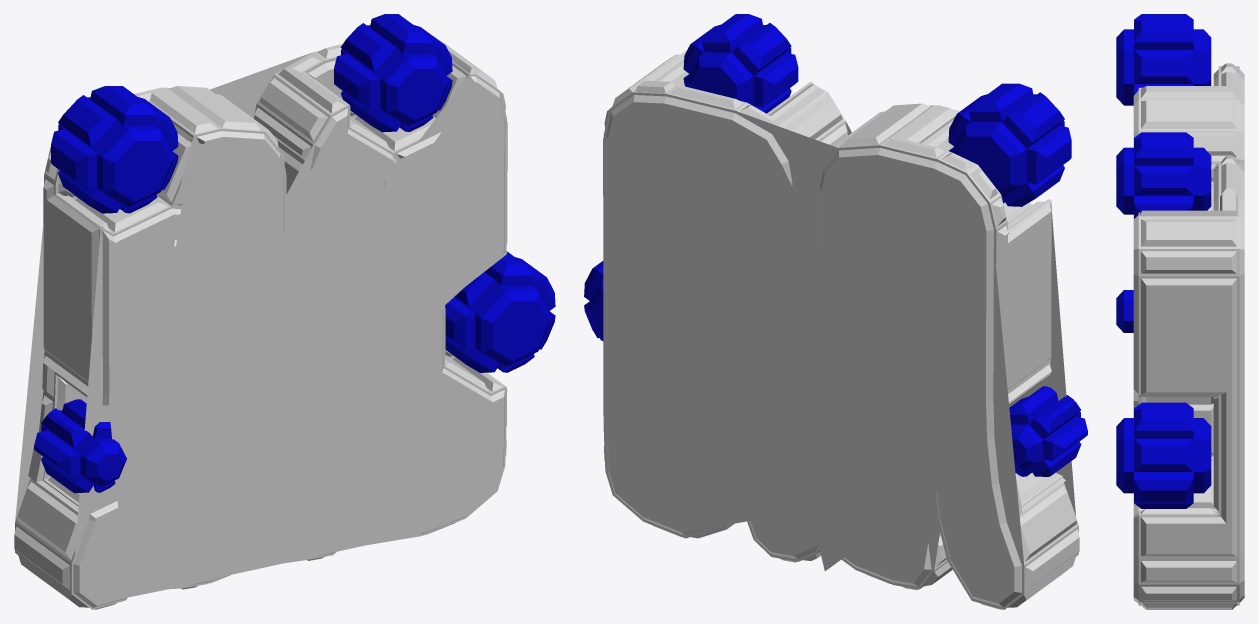
The model's file is Ch_China_朋_01.fbx.
3 views of the same model, side by side, from view 1: azimuth 30°, elevation 25°; view 2: azimuth 150°, elevation 25°; view 3: azimuth 270°, elevation 25° (orthographic). The views are drawn at different scales.
Parts seen in each view (by area): view 1: sphere1; view 2: sphere1; view 3: sphere1.
Part boxes in pixels (x1=…): sphere1: x1=14, y1=14, x2=555, y2=609; sphere1: x1=584, y1=14, x2=1087, y2=609; sphere1: x1=1116, y1=14, x2=1244, y2=609.
Bounding box in the file's own units: 1.01 × 0.9911 × 0.2541.
